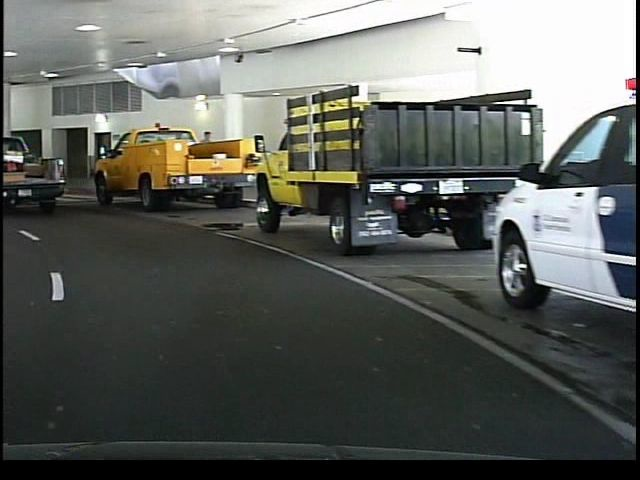person: (195, 125, 217, 196)
